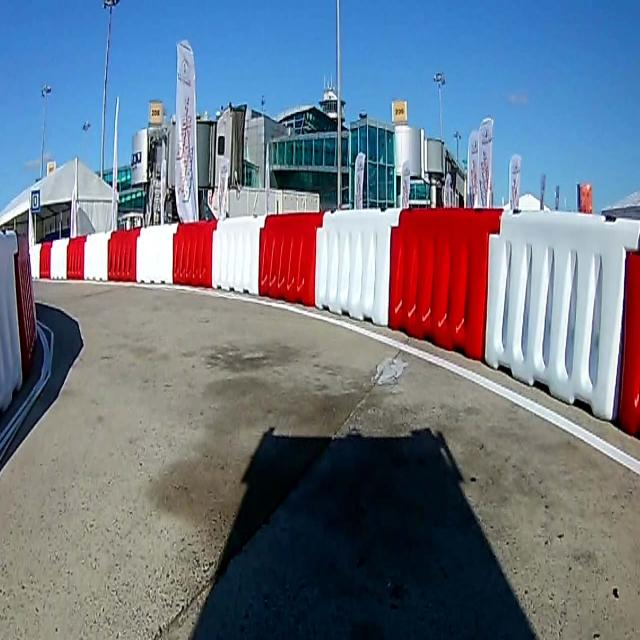durak: (30, 190, 40, 212)
